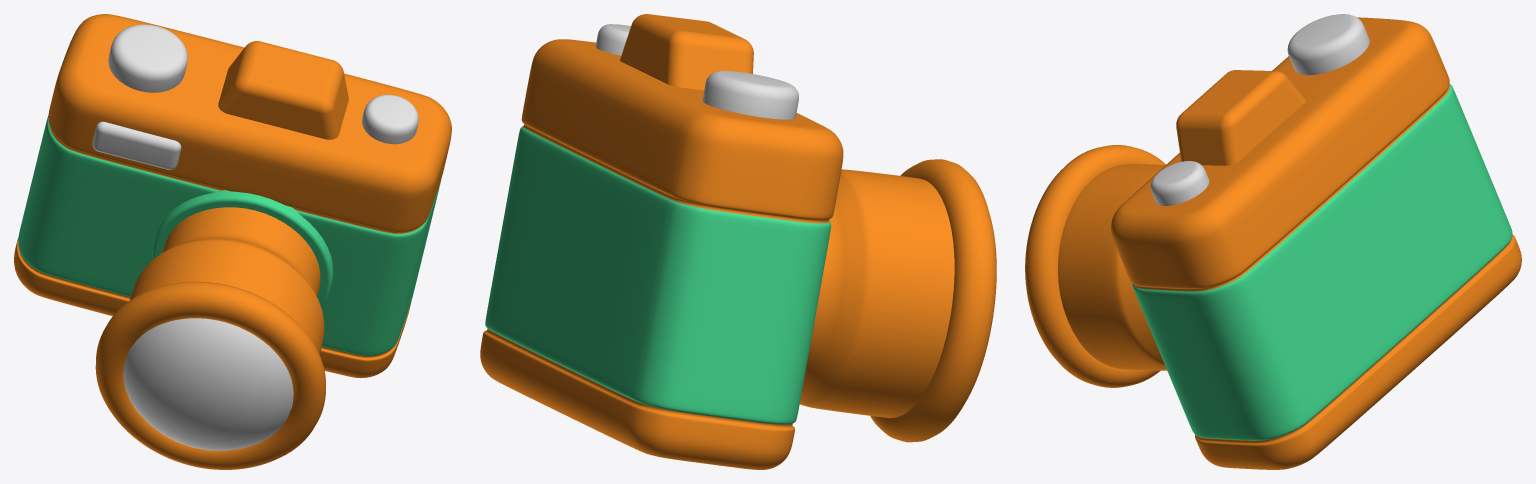
The model's file is mirrorless-camera-3d-icon-93649602374.glb.
The picture shows the model from 3 angles, left to right: view 1: azimuth 30°, elevation 25°; view 2: azimuth 150°, elevation 25°; view 3: azimuth 270°, elevation 25°; orthographic projection. The views are drawn at different scales.
Parts seen in each view (by area): view 1: Lens & Body, Body, Button & Camera Glass; view 2: Lens & Body, Body, Button & Camera Glass; view 3: Lens & Body, Body, Button & Camera Glass.
Boxes of the visible parts, box(x1,y1,x2,y2) form: Lens & Body: box(14, 14, 451, 469); Body: box(18, 115, 440, 355); Button & Camera Glass: box(92, 24, 418, 450); Lens & Body: box(480, 14, 996, 469); Body: box(485, 126, 831, 424); Button & Camera Glass: box(595, 24, 798, 119); Lens & Body: box(1025, 17, 1521, 469); Body: box(1132, 84, 1512, 440); Button & Camera Glass: box(1150, 14, 1369, 205).
Size of the model in its own units: 3.21 by 3.05 by 3.69.
